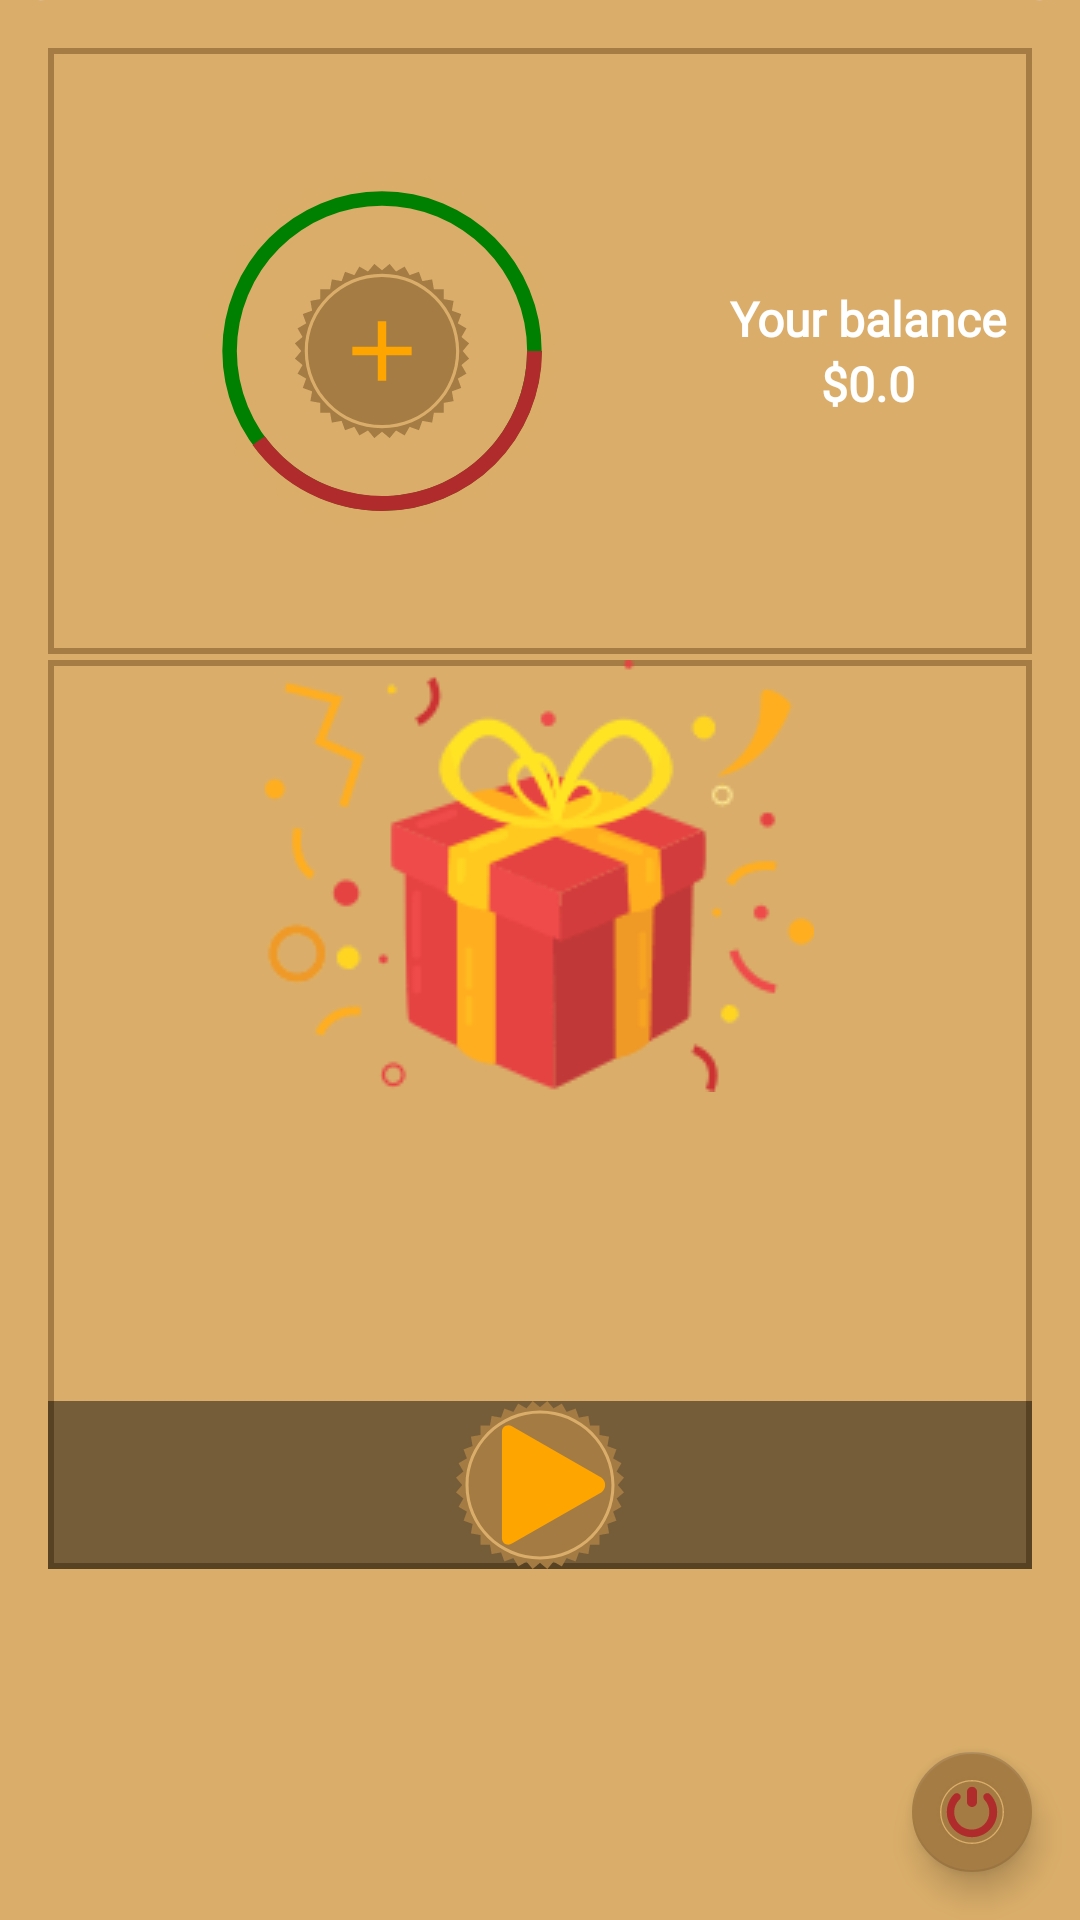

Where to tap for icons on this 1080x1920 app screen, as point (x, y):
play video: point (540, 1485)
